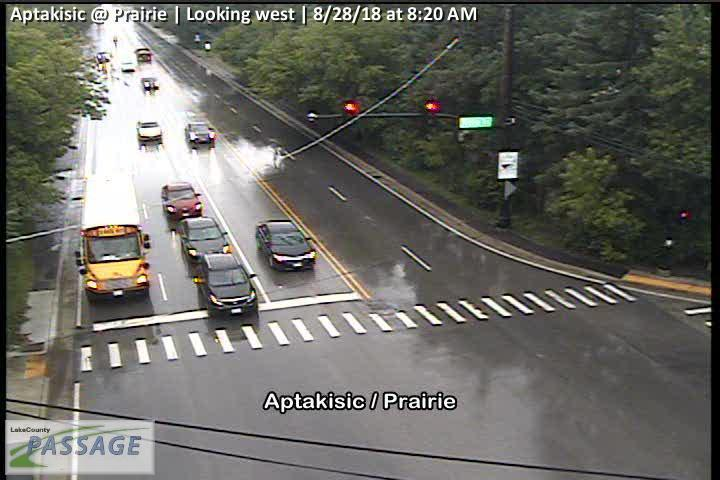Bus: (76, 170, 152, 297)
SUV: (199, 253, 259, 320)
Sedan: (256, 219, 316, 271), (176, 217, 231, 263), (162, 183, 203, 218), (185, 122, 217, 145), (136, 119, 162, 144), (141, 78, 160, 91), (120, 62, 134, 72)
Truck: (134, 46, 152, 63)
